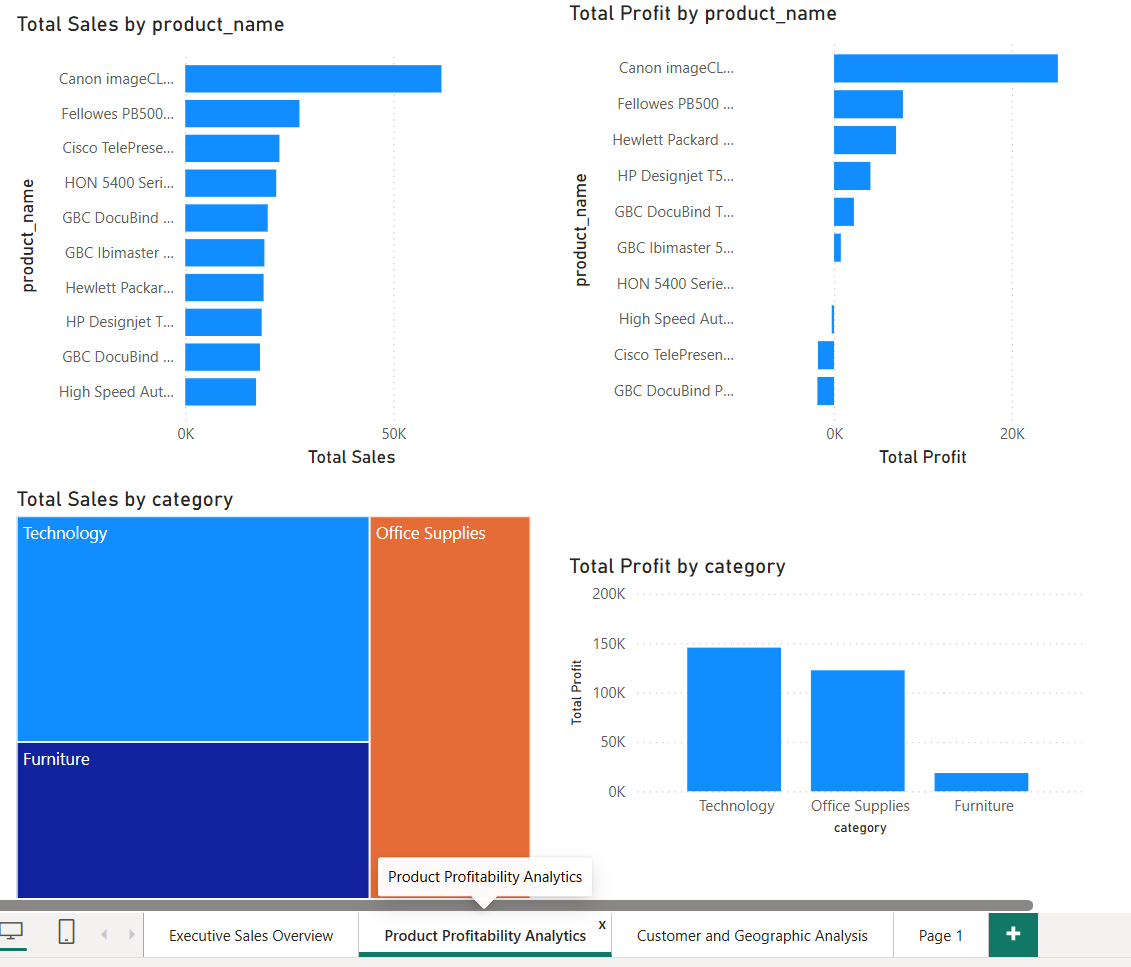

The page's visual inventory and layout, read from the dashboard file:
{"tool":"powerbi","page":{"name":"Product Performance Analytics","canvas":[1000,1000],"ordinal":1},"visuals":[{"type":"clusteredBarChart","fields":{"Category":["public products.product_name"],"Y":["public order_items.Total Sales"]},"box":[11,9,421,370],"z":0},{"type":"clusteredBarChart","fields":{"Category":["public products.product_name"],"Y":["public order_items.Total Profit"]},"box":[453,0,445,379],"z":1000},{"type":"treemap","fields":{"Group":["public products.category"],"Values":["public order_items.Total Sales"]},"box":[11,389,421,370],"z":2000},{"type":"clusteredColumnChart","fields":{"Category":["public products.category"],"Y":["public order_items.Total Profit"]},"box":[453,442,421,231],"z":3000}]}

Visuals, with their boxes on the page's 1000x1000 design canvas (x1, y1, x2, y2). These are canvas units, not pixel positions in the 1131x967 screenshot, which may show the page scaled, cropped or inside an application window:
clusteredBarChart - public products.product_name x public order_items.Total Sales: (11, 9, 432, 379)
clusteredBarChart - public products.product_name x public order_items.Total Profit: (453, 0, 898, 379)
treemap - public products.category x public order_items.Total Sales: (11, 389, 432, 759)
clusteredColumnChart - public products.category x public order_items.Total Profit: (453, 442, 874, 673)
